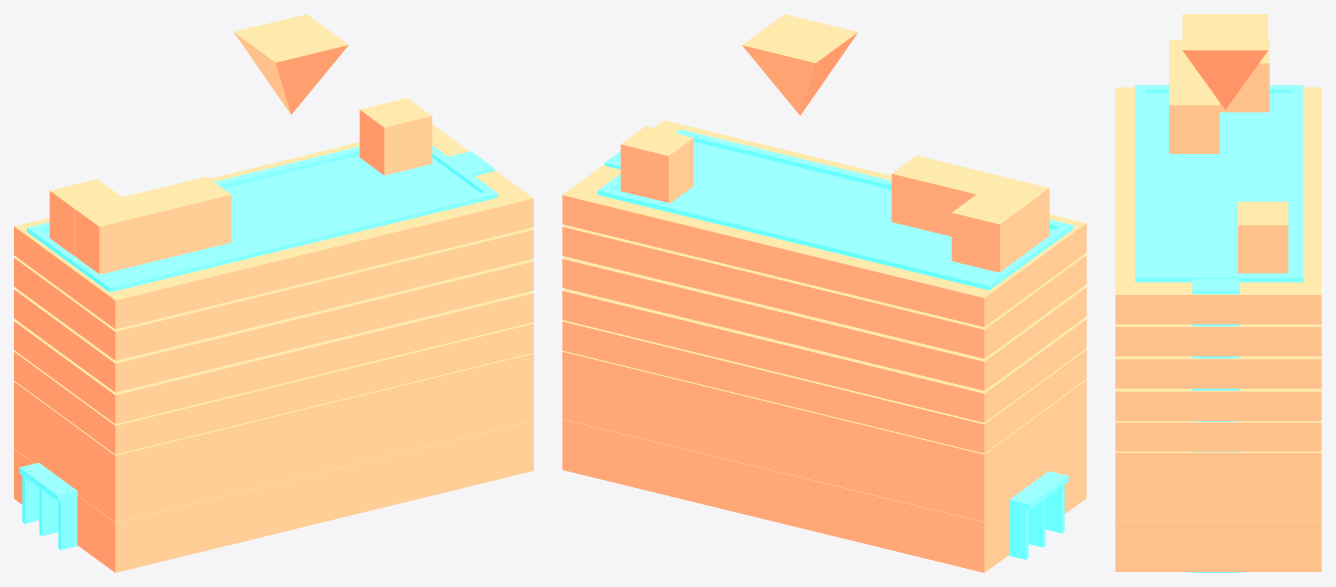
3 views of the same model, side by side, from view 1: azimuth 30°, elevation 25°; view 2: azimuth 150°, elevation 25°; view 3: azimuth 270°, elevation 25° (orthographic).
Visible parts, largest first — view 1: fire, subject, fire-mark; view 2: fire, subject, fire-mark; view 3: fire, subject, fire-mark.
Boxes of the visible parts, x1,y1,x2,y2 form: fire: [14, 98, 533, 572]; subject: [19, 145, 497, 549]; fire-mark: [234, 14, 348, 114]; fire: [562, 120, 1086, 572]; subject: [597, 129, 1072, 559]; fire-mark: [742, 14, 858, 115]; fire: [1115, 39, 1321, 571]; subject: [1135, 85, 1303, 572]; fire-mark: [1182, 14, 1268, 109].
Bounding box in the file's own units: 59.85 × 57.58 × 23.97.
